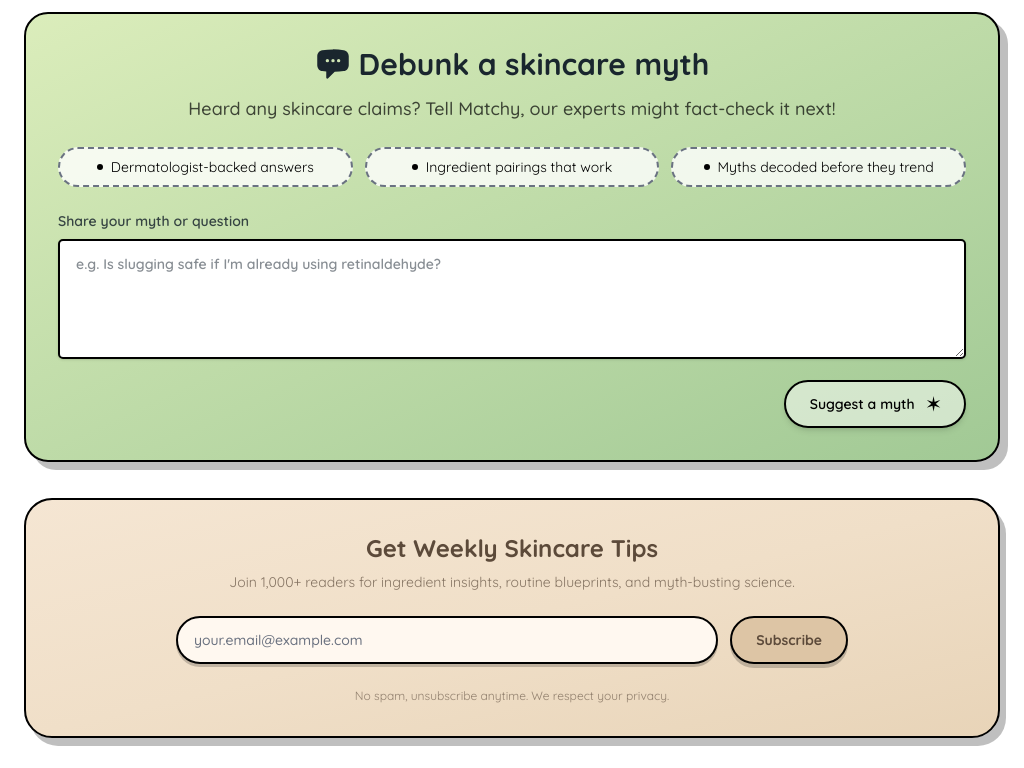
Test: AskExpertCTA myth submission › opens mailto with encoded body when a myth is submitted
Type "Is slugging safe if I use retinaldehyde?" into the text box with placeholder "e.g. Is slugging safe if I'm already using retinaldehyde?" at [512, 299], box x1=58 y1=239 x2=966 y2=359
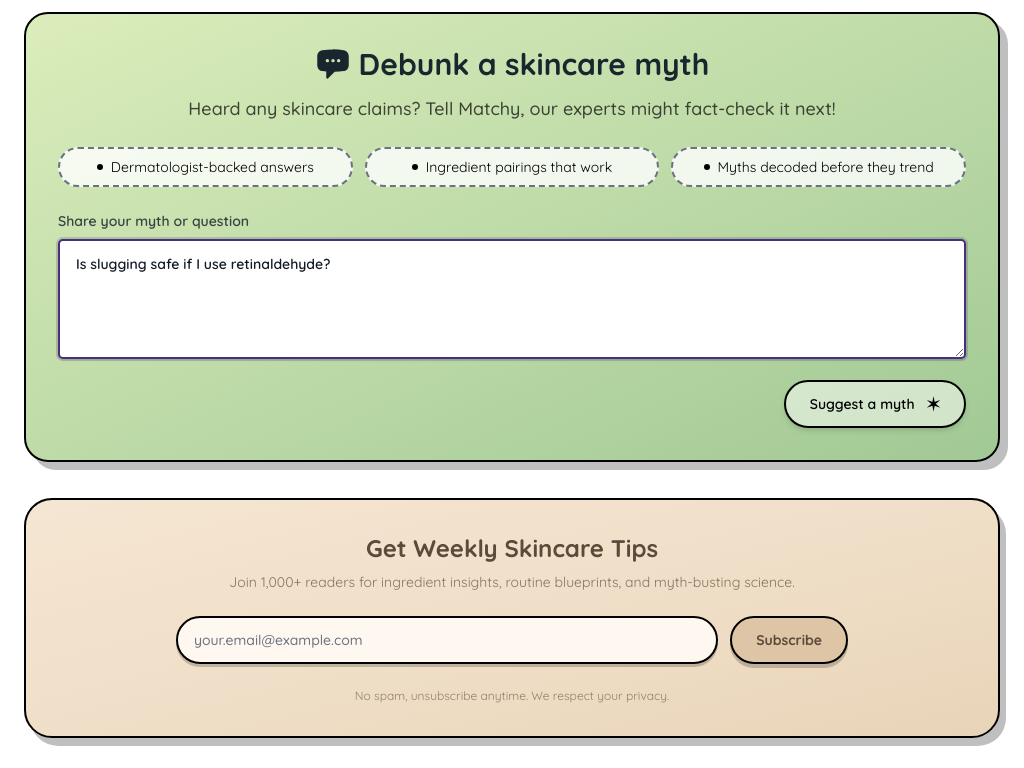
Click the button "Suggest a myth ✶" at [875, 404], box x1=784 y1=380 x2=966 y2=428
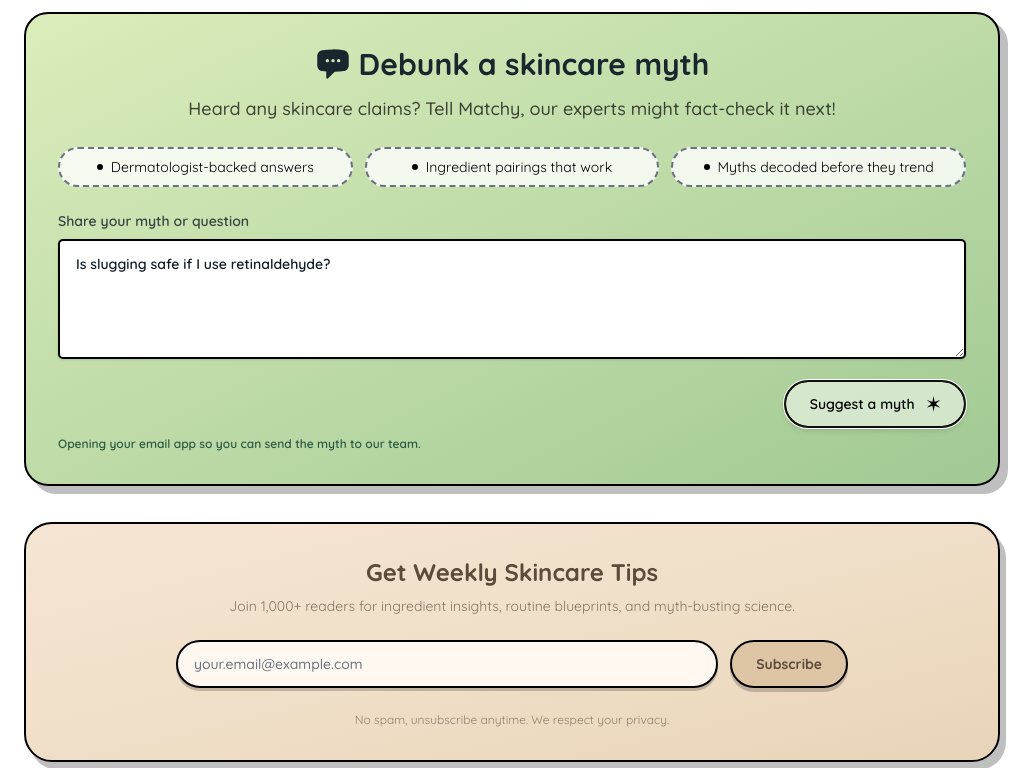
Check: the text "Opening your email app so you can send the myth to our team." is shown, box x1=58 y1=436 x2=421 y2=451
